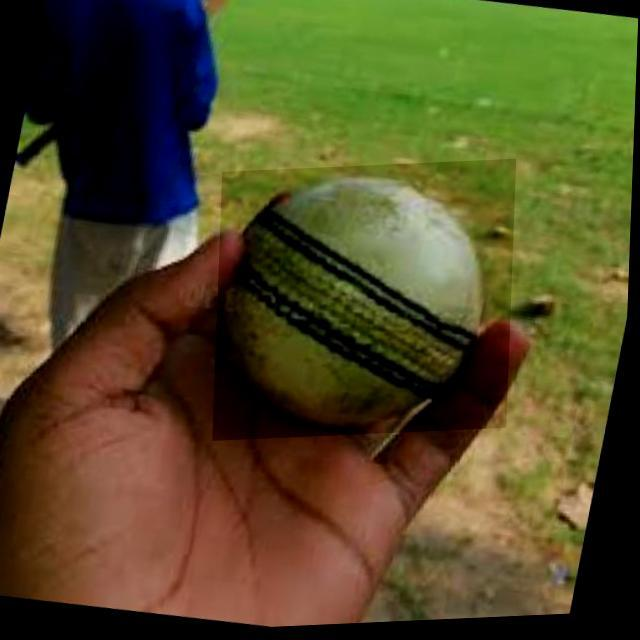-: (216, 164, 518, 443)
